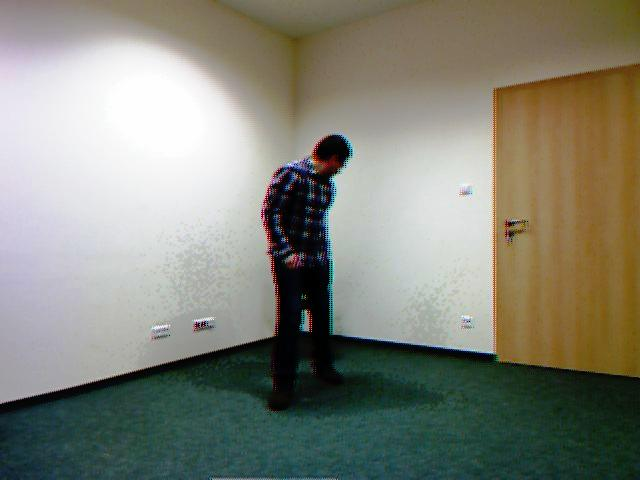walking: (254, 121, 363, 413)
